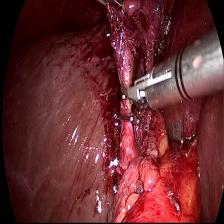Clipper: (114, 46, 195, 124)
